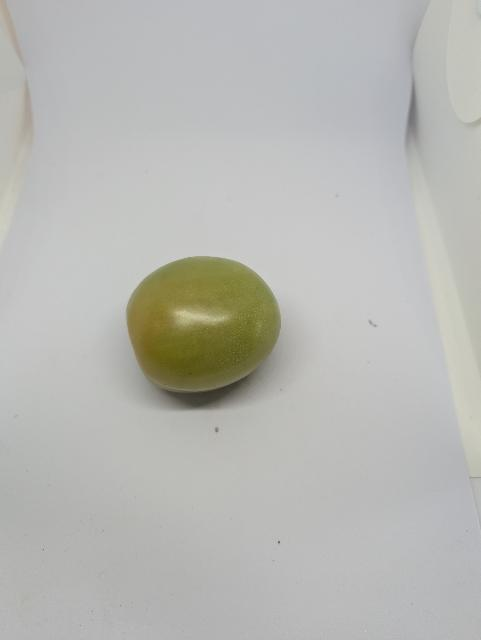green: (117, 247, 286, 407)
